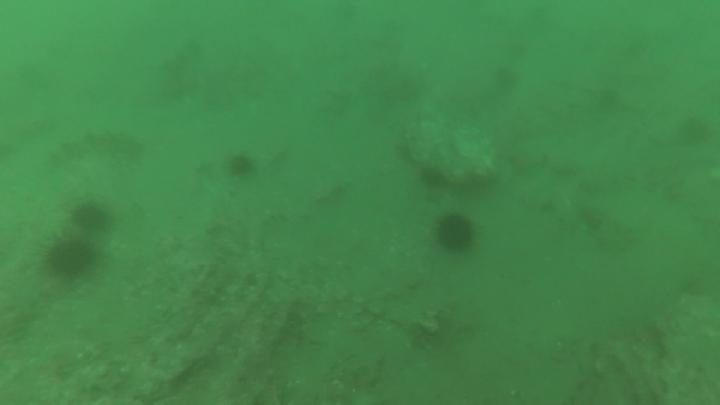echinus: (43, 234, 97, 281), (433, 211, 478, 256), (69, 199, 114, 235), (674, 113, 714, 150), (490, 63, 522, 95), (224, 151, 257, 181), (417, 163, 449, 193)
holothurian: (52, 125, 146, 167)
